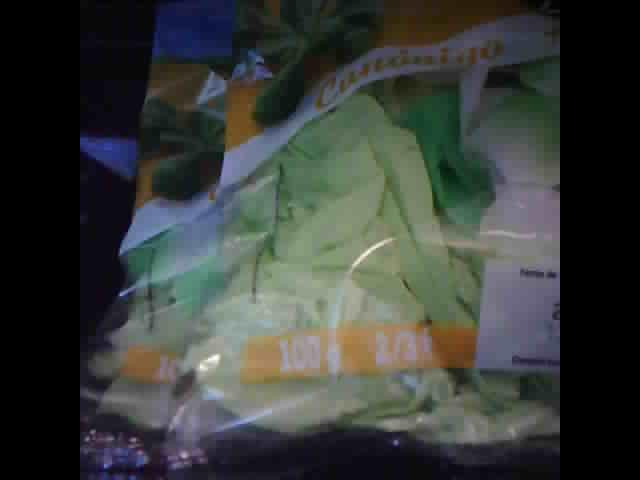florette: (81, 2, 558, 471)
